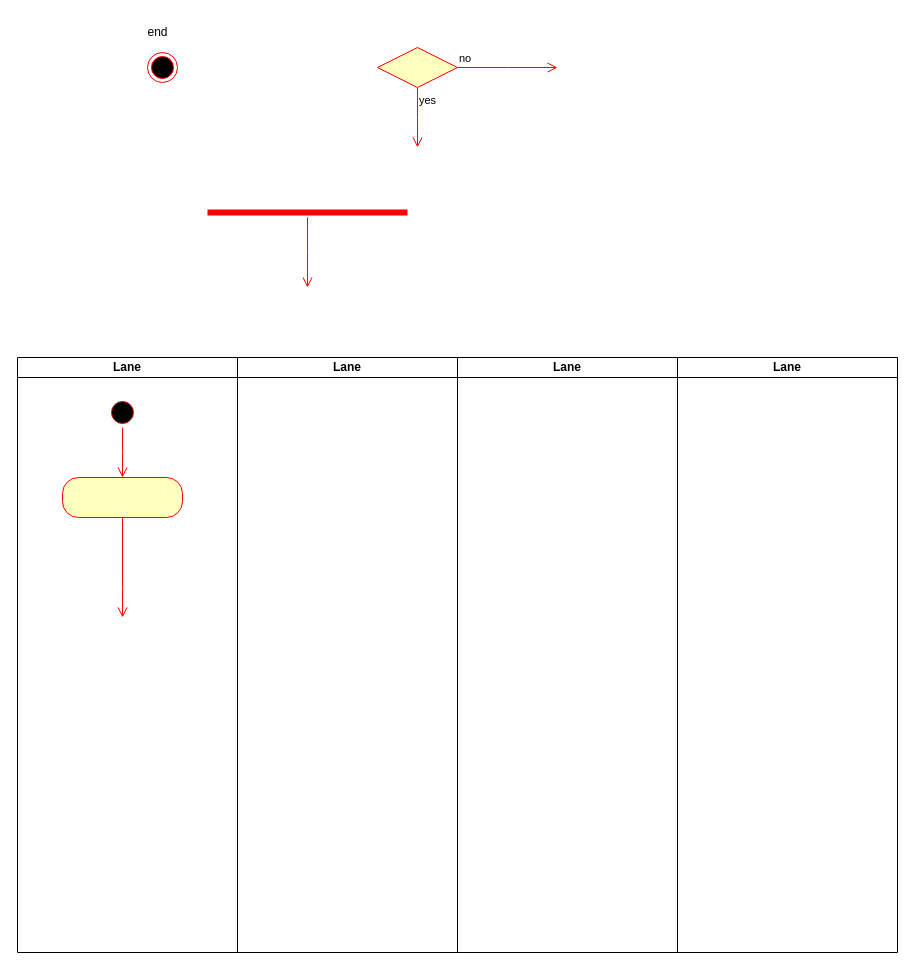
Image size: 915x970. Some labels were removed from this diagram. Each missing label, with the centre of its shape:
Activity: (122,497)
Condition: (417,67)
